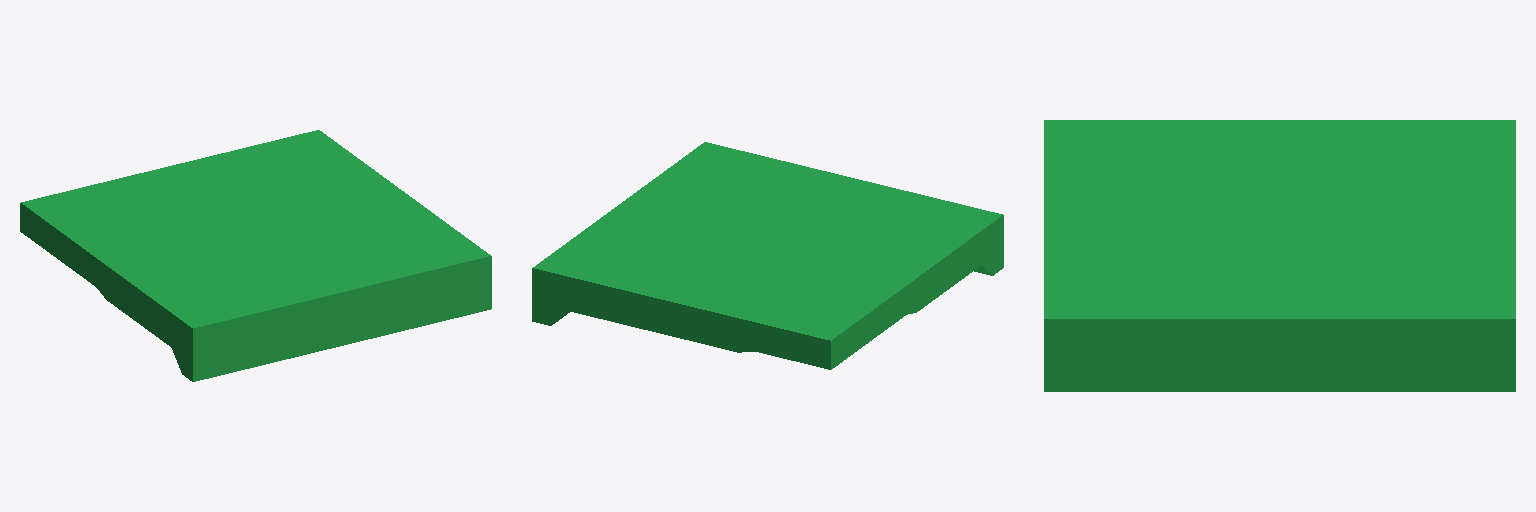
robot.urdf — uydu_mount:
<?xml version='1.0' encoding='utf-8'?>
<robot name="uydu_mount">
  <link name="base_link">
    <visual>
      <geometry>
        <mesh filename="satellite.stl" />
      </geometry>
      <material name="satellite_grey">
        <color rgba=".6 .7 .8 1" />
      </material>
    </visual>
    <collision>
      <geometry>
        <mesh filename="satellite.stl" />
      </geometry>
    </collision>
  </link>
  <link name="uydu_mount" />
  <joint name="satellite_mount_fixed" type="fixed">
    <parent link="base_link" />
    <child link="uydu_mount" />
    <origin xyz="0.15 0.15 0.4046098543457654" rpy="0.0 0.0 0.0" />
  </joint>
  <link name="mount_support">
    <visual>
      <geometry>
        <mesh filename="mount_support.stl" />
      </geometry>
      <material name="mount_green">
        <color rgba=".2 .7 .35 1" />
      </material>
    </visual>
    <collision>
      <geometry>
        <mesh filename="mount_support.stl" />
      </geometry>
    </collision>
  </link>
  <joint name="support_fixed" type="fixed">
    <parent link="uydu_mount" />
    <child link="mount_support" />
    <origin xyz="0 0 0" rpy="0 0 0" />
  </joint>
</robot>

--- Facts derived from the render (not from the file) ---
Views: 3 orthographic renders of the robot side by side, from view 1: azimuth 30°, elevation 25°; view 2: azimuth 150°, elevation 25°; view 3: azimuth 270°, elevation 25°.
Model uydu_mount with 3 links and 2 joints (2 fixed), rooted at base_link, posed all joints at 0.
Visible links, largest first — view 1: mount_support; view 2: mount_support; view 3: mount_support.
Link boxes in pixels (box(x1,y1,x2,y2)): mount_support: box(20, 130, 491, 381); mount_support: box(532, 142, 1003, 369); mount_support: box(1044, 120, 1515, 391).
Size in the robot's own frame: 0.32 by 0.32 by 0.0549 metres.
1 mesh visuals loaded from 2 distinct referenced files (1 binary STL); not drawn: 1 (reference not matched to a file when rendering).
